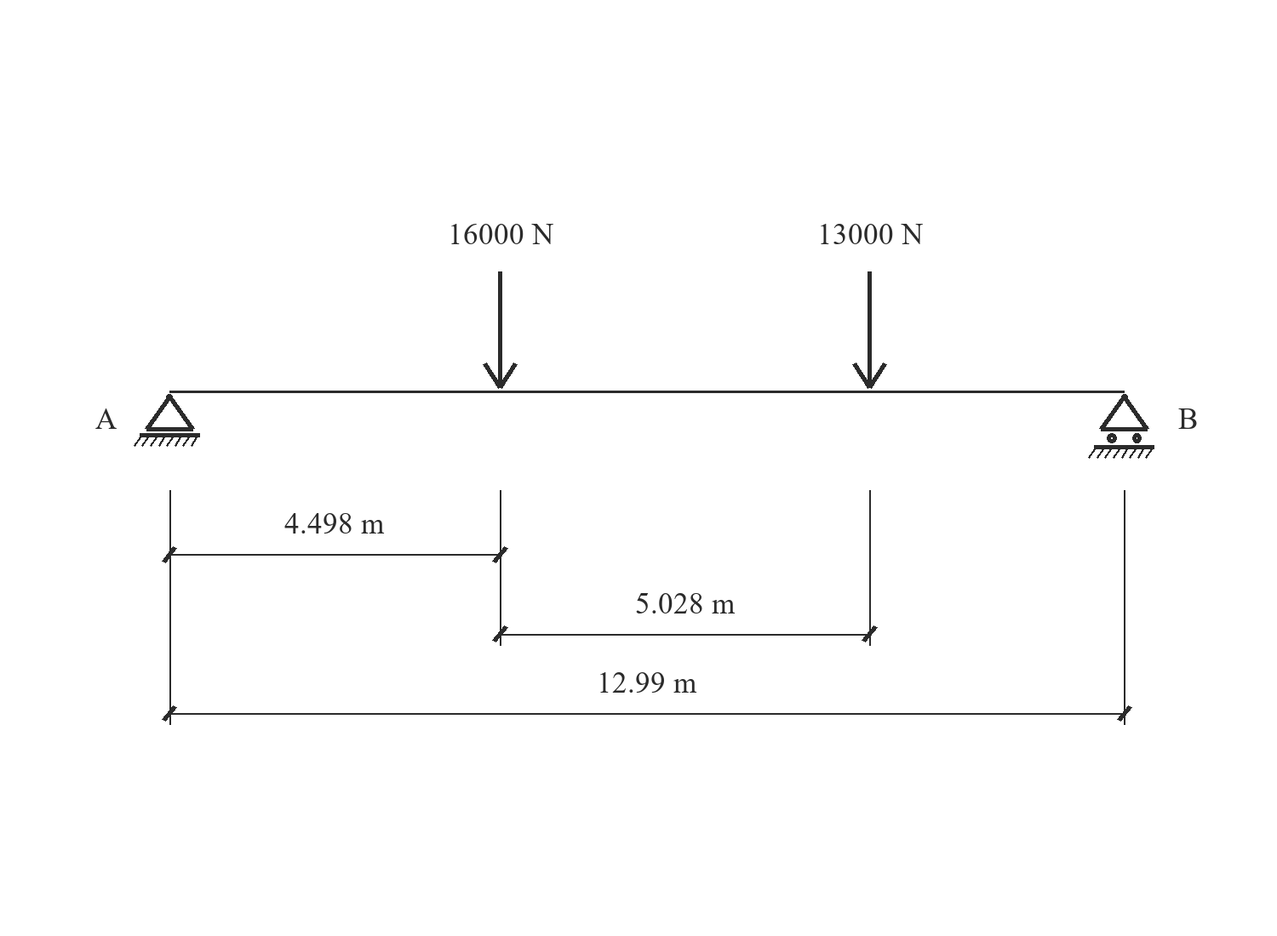pin_support: (134, 394, 200, 447)
point_load: (483, 271, 518, 389), (852, 271, 887, 389)
roller_support: (1088, 394, 1154, 459)
